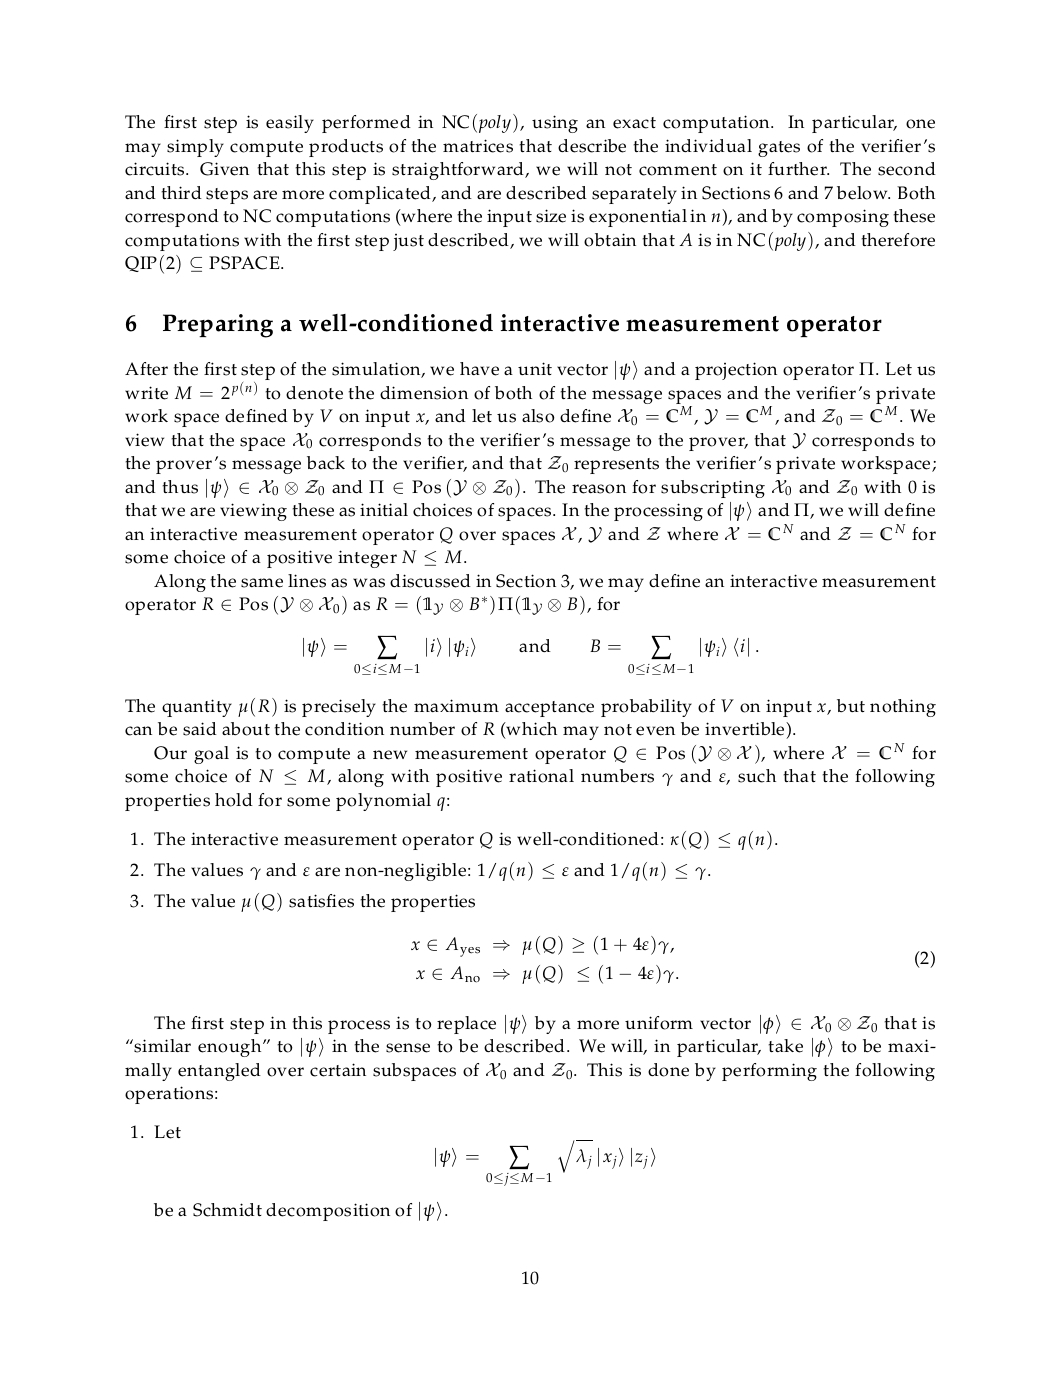formula: (411, 934, 934, 984), (303, 635, 758, 674), (435, 1140, 655, 1185)
